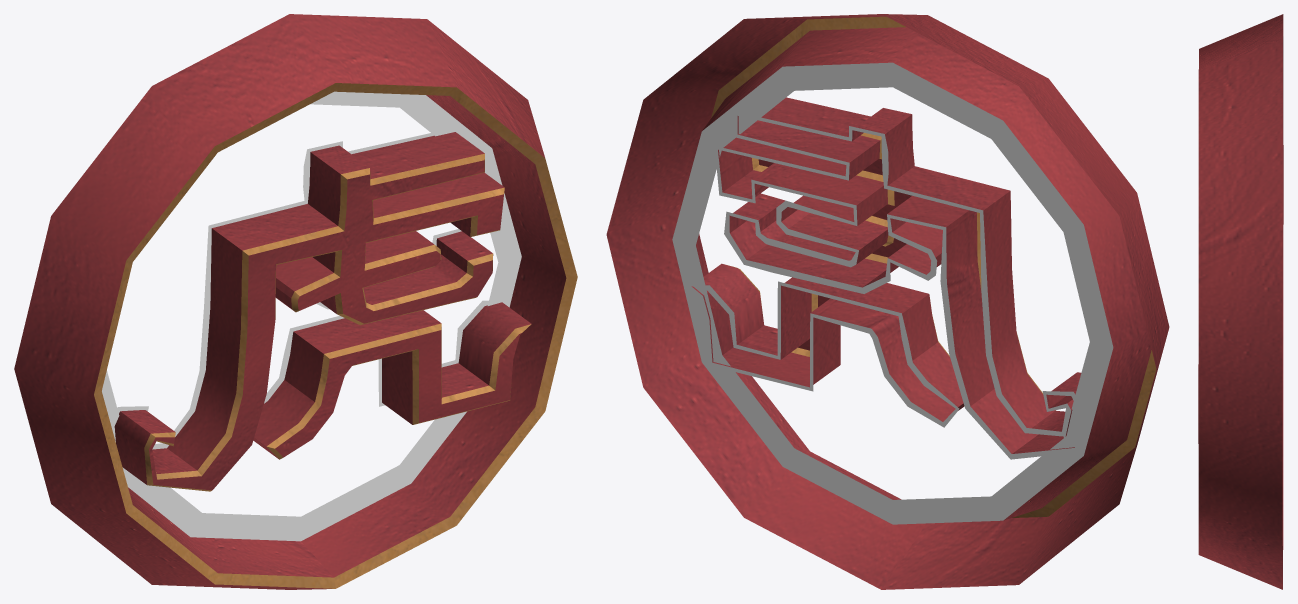
Rendered from polygonalmind-lunar-year-051.glb.
3 renders of one model, left to right at view 1: azimuth 30°, elevation 25°; view 2: azimuth 150°, elevation 25°; view 3: azimuth 270°, elevation 25°, orthographic. The views are drawn at different scales.
Parts seen in each view (by area): view 1: TigerLogo; view 2: TigerLogo; view 3: TigerLogo.
Boxes of the visible parts, x1=… form: TigerLogo: x1=14, y1=14, x2=577, y2=589; TigerLogo: x1=606, y1=14, x2=1169, y2=589; TigerLogo: x1=1198, y1=14, x2=1283, y2=589.
Bounding box in the file's own units: 2.2 × 2.2 × 0.3239.
Materials: 3 (2 with a texture image).
